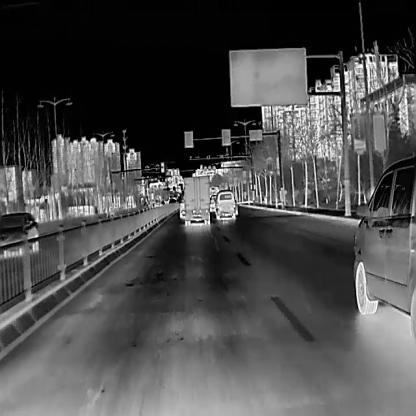car: (352, 156, 415, 343), (0, 212, 38, 261), (182, 174, 209, 225), (214, 188, 235, 220), (178, 199, 184, 219), (209, 195, 216, 211), (154, 200, 162, 208)
